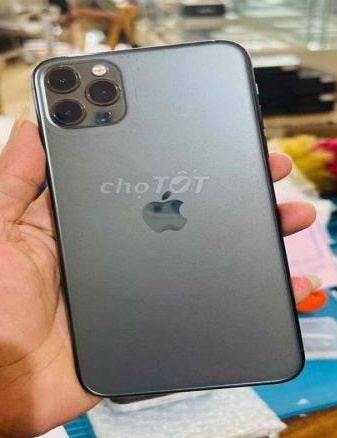scratch: (112, 46, 246, 85), (45, 58, 80, 84)
